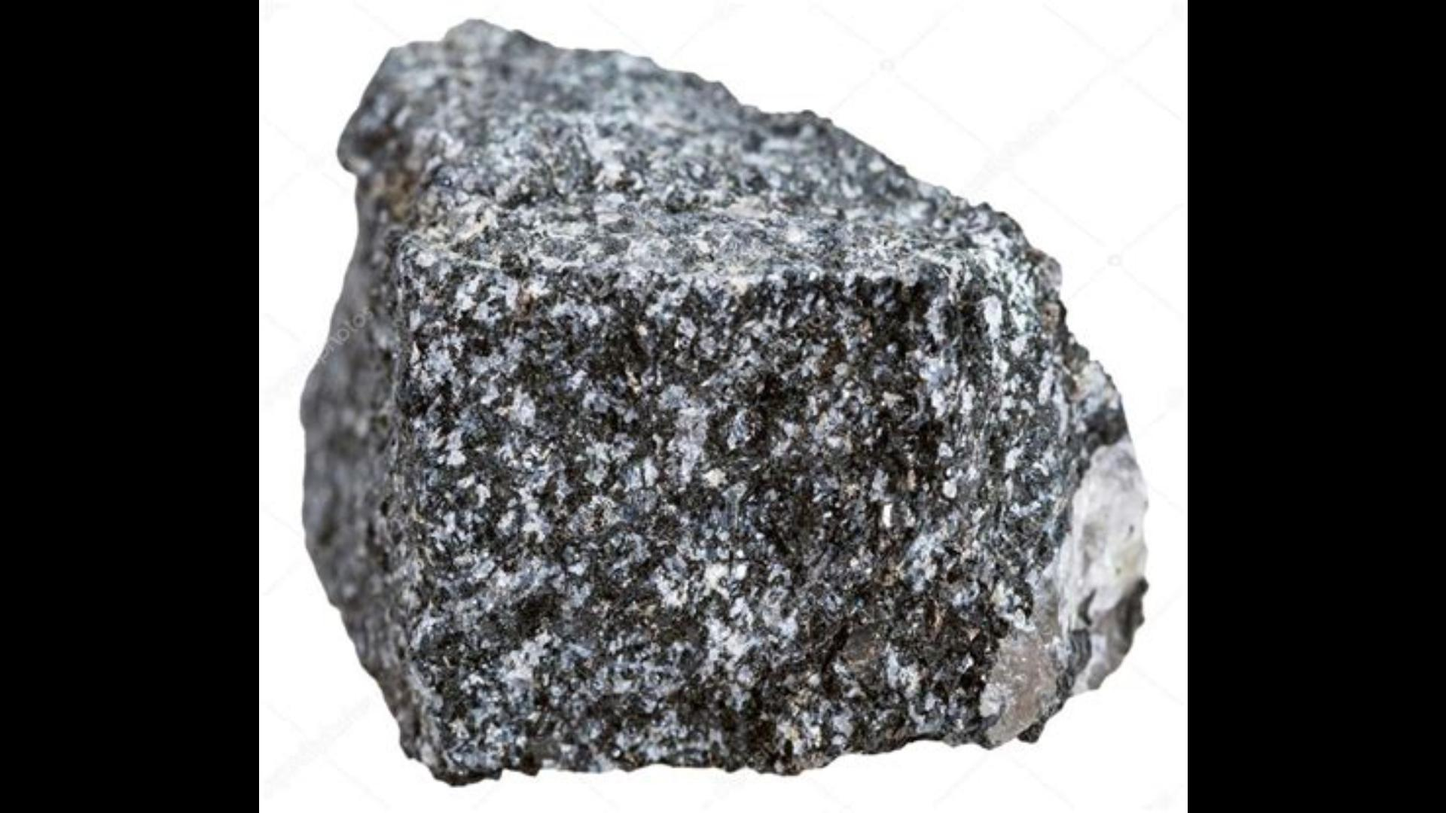rock: (301, 24, 1140, 782)
